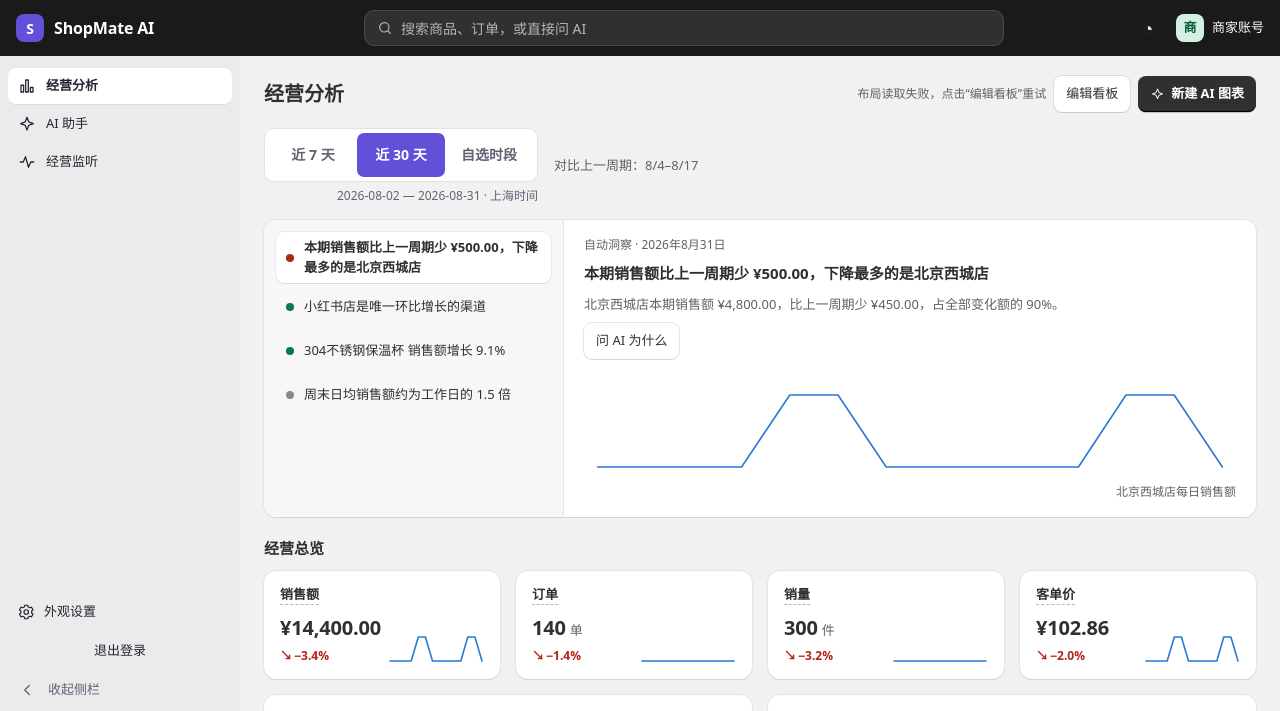
Test case: AnalyticsClient › keeps showing data when the layout fails to load and retries it on edit
Check: the text "布局读取失败，点击“编辑看板”重试" is shown, box [858,85,1046,103]
Click the button "编辑看板" at point(1092, 94), box [1054,76,1130,112]
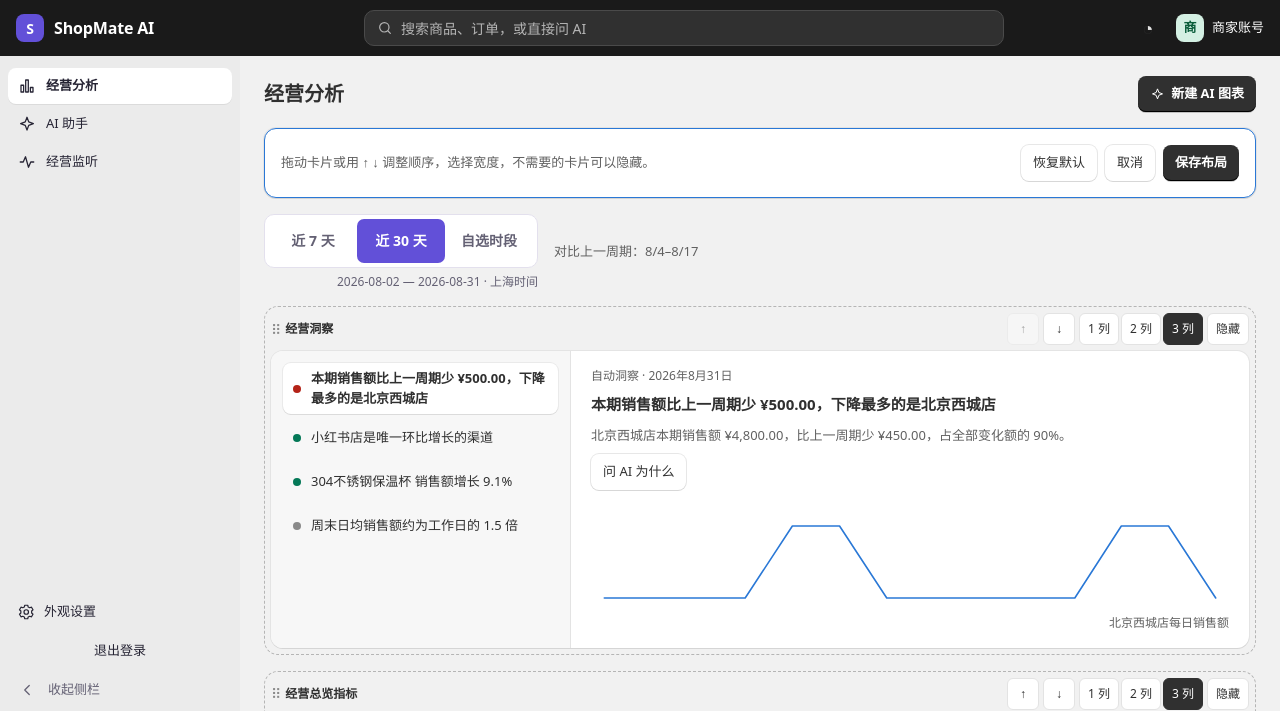
Check: the element named "编辑看板" is shown, box [264,128,1256,198]
